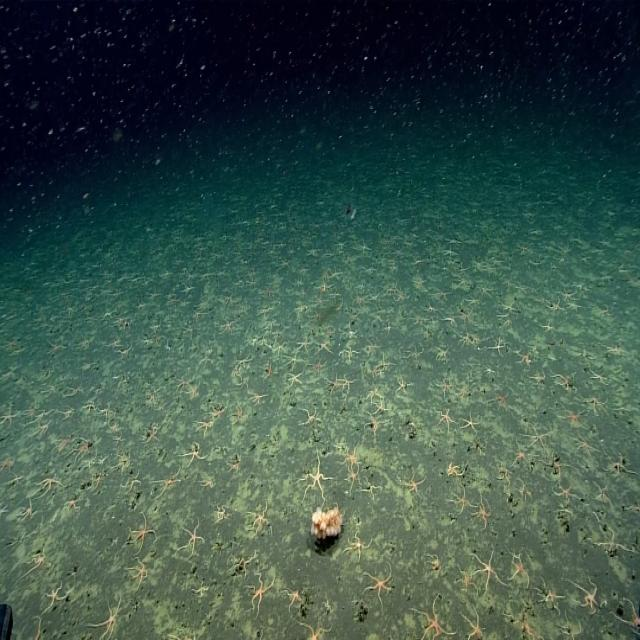brittle-stars: (416, 596, 450, 640), (302, 453, 331, 504), (592, 521, 631, 557), (128, 512, 158, 558), (248, 571, 276, 617), (470, 550, 501, 589), (360, 568, 393, 604), (176, 515, 203, 558), (570, 576, 599, 615), (93, 601, 122, 637), (458, 605, 484, 640), (44, 578, 72, 609), (248, 500, 271, 537), (345, 530, 372, 561), (524, 420, 550, 450), (508, 553, 530, 587), (180, 441, 207, 466), (538, 581, 563, 608), (152, 471, 180, 495), (450, 489, 473, 516), (404, 468, 427, 495), (129, 557, 148, 589), (472, 497, 493, 525), (299, 620, 328, 640), (574, 432, 596, 458), (0, 407, 19, 436), (52, 432, 74, 456), (456, 565, 476, 591), (554, 371, 576, 394), (30, 546, 49, 572), (343, 442, 361, 469), (444, 458, 464, 482), (561, 407, 583, 428), (553, 482, 577, 501), (436, 406, 454, 431), (284, 583, 300, 611), (39, 474, 61, 494), (459, 411, 478, 434), (436, 374, 452, 401), (365, 409, 382, 434), (339, 342, 358, 364), (585, 394, 605, 414), (344, 467, 362, 489), (224, 456, 243, 476), (186, 379, 203, 400), (32, 407, 53, 424), (491, 336, 506, 359), (285, 369, 303, 388), (493, 390, 509, 411), (210, 403, 227, 422), (433, 344, 450, 363), (516, 346, 530, 369), (231, 403, 245, 425), (249, 390, 266, 408), (234, 353, 252, 370), (303, 406, 320, 424), (316, 337, 332, 356), (216, 502, 230, 523), (394, 375, 408, 396), (339, 374, 356, 391), (367, 386, 382, 405), (220, 317, 235, 336), (412, 273, 427, 292), (76, 438, 90, 458), (144, 426, 160, 443), (272, 339, 288, 356), (529, 369, 546, 385), (195, 419, 214, 433), (364, 337, 378, 356), (540, 317, 554, 336), (310, 358, 326, 374), (433, 284, 448, 301), (297, 334, 311, 352), (548, 298, 564, 313), (458, 306, 472, 323), (264, 362, 276, 380), (66, 497, 80, 512), (502, 300, 517, 313), (329, 266, 342, 280), (148, 287, 160, 302), (110, 418, 120, 434), (306, 244, 319, 256)
